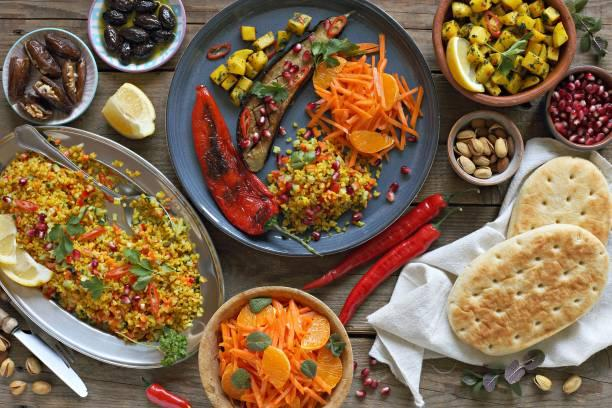Braised Crucian Carp: (164, 1, 433, 260), (3, 126, 222, 370)
